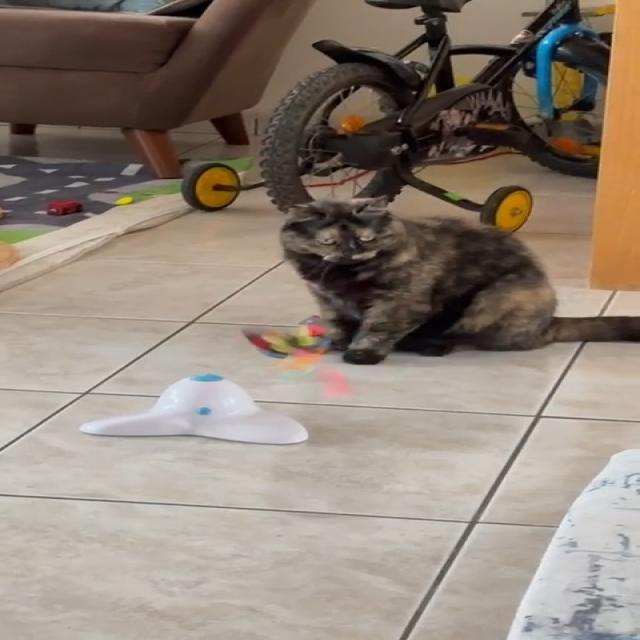authorized: (278, 194, 638, 364)
